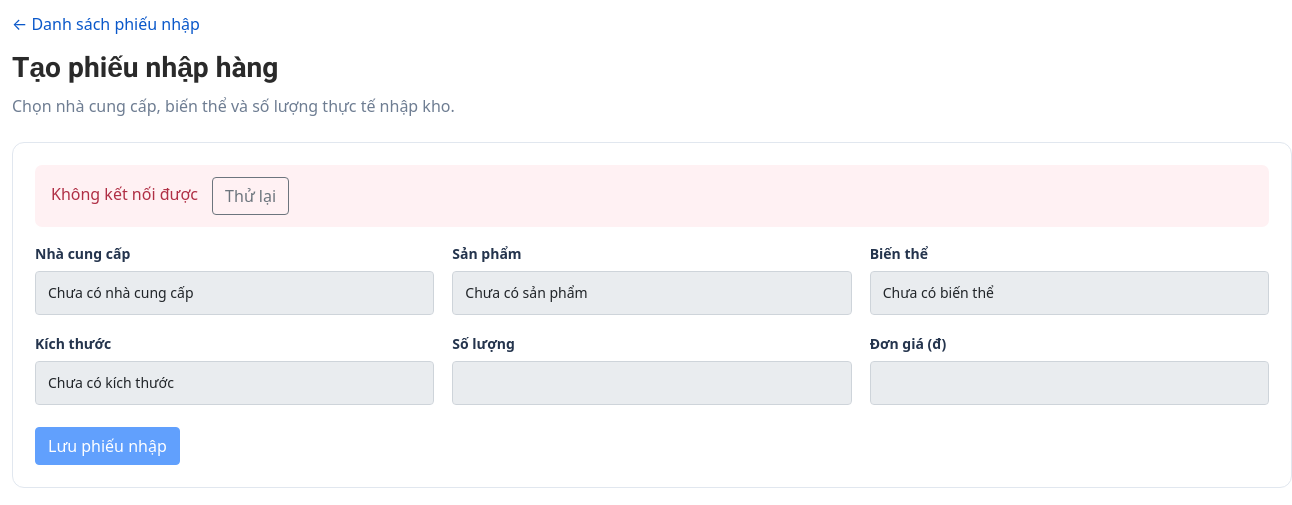
Scenario: catalog failures can be retried and a missing supplier prevents an invalid receipt
Expected: the message shows "Không kết nối được", x1=51 y1=183 x2=198 y2=205
Expected: the button "Lưu phiếu nhập" is disabled, x1=35 y1=427 x2=180 y2=465
Click the button "Thử lại" at (251, 196), box x1=212 y1=177 x2=289 y2=215
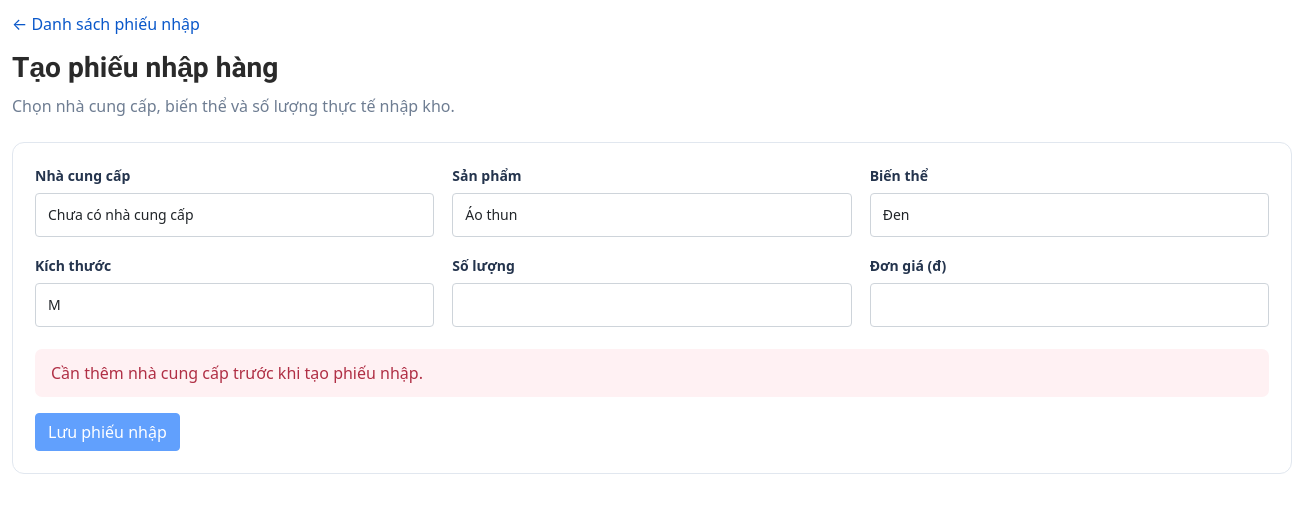
Expected: the button "Lưu phiếu nhập" is disabled, x1=35 y1=413 x2=180 y2=451
Now the text "Cần thêm nhà cung cấp trước khi tạo phiếu nhập." is shown, box x1=35 y1=349 x2=1269 y2=397
